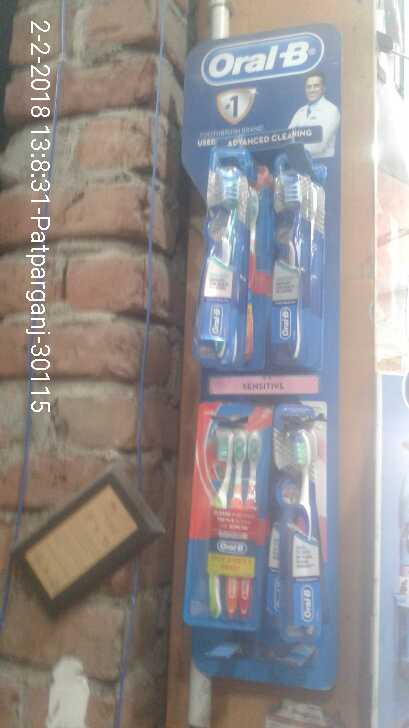oralb: (199, 411, 264, 637), (185, 168, 254, 368), (275, 413, 332, 643), (263, 175, 317, 363)
